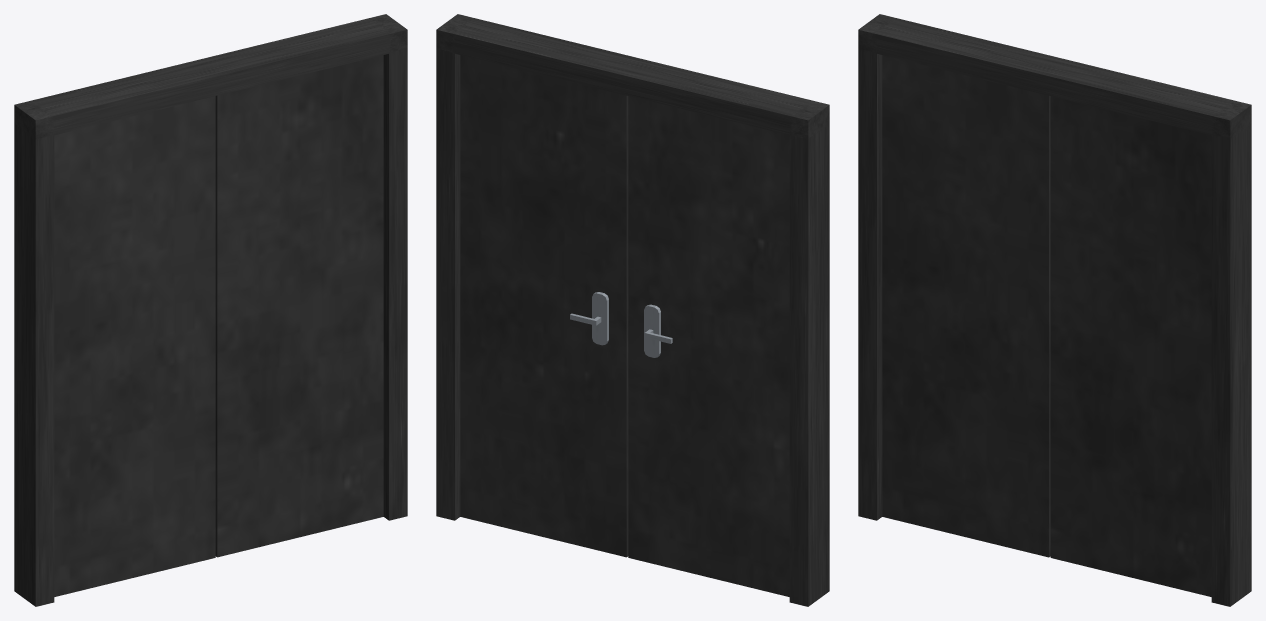
The model's file is Entrance_Doors.glb.
3 views of the same model, side by side, from view 1: azimuth 30°, elevation 25°; view 2: azimuth 150°, elevation 25°; view 3: azimuth 330°, elevation 25° (orthographic).
Visible parts, largest first — view 1: Entrance Doors.001; view 2: Entrance Doors.001; view 3: Entrance Doors.001.
Boxes of the visible parts, left/top/right/bottom form: Entrance Doors.001: left=14, top=14, right=407, bottom=606; Entrance Doors.001: left=436, top=14, right=829, bottom=606; Entrance Doors.001: left=858, top=14, right=1251, bottom=606.
Size of the model in its own units: 2 by 2.5 by 0.2165.
2 materials, 2 textured.
